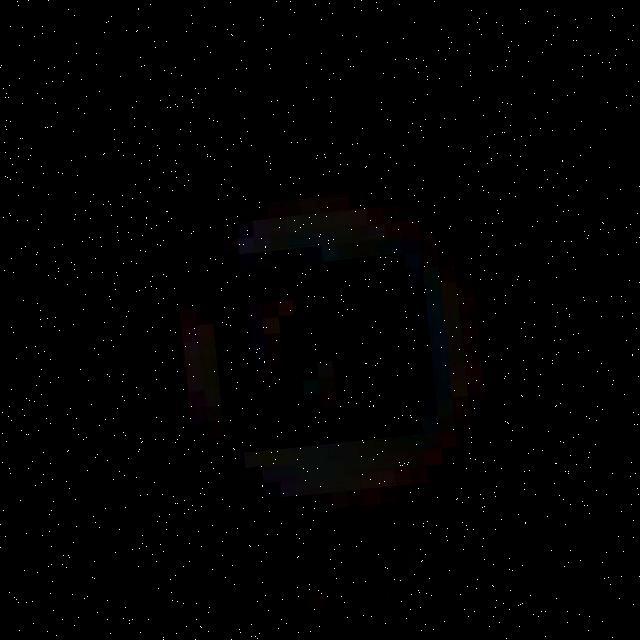Ograniczenie predkosci do 120: (103, 118, 550, 582)
